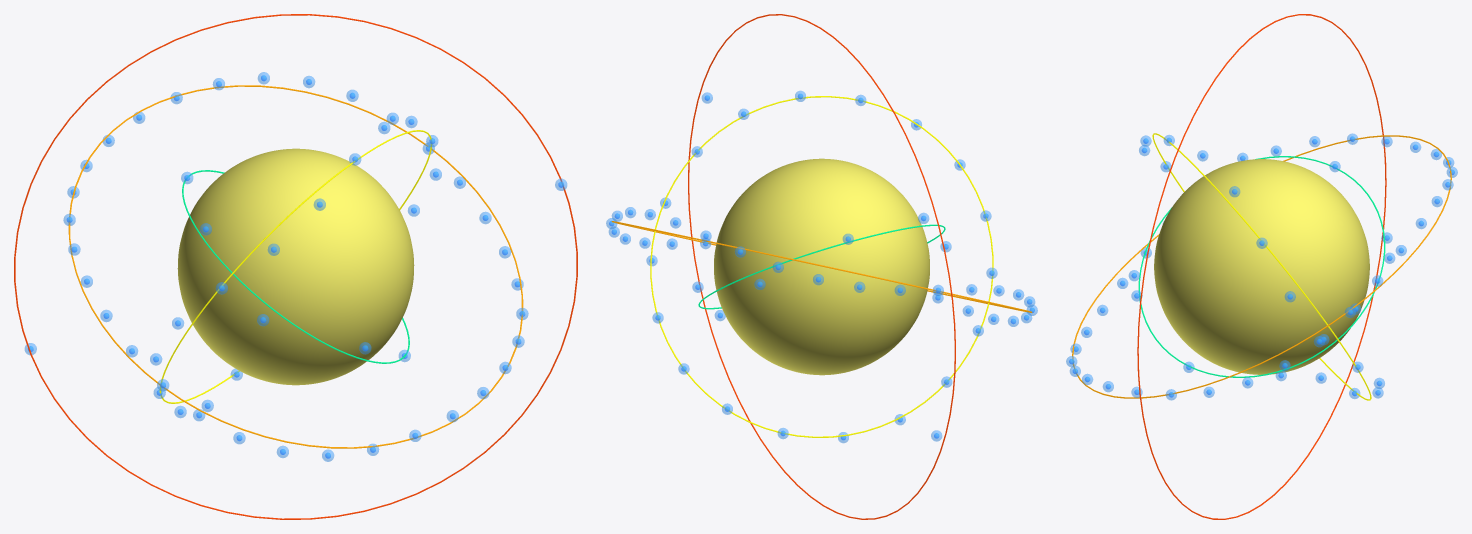
The picture shows the model from 3 angles, left to right: view 1: azimuth 30°, elevation 25°; view 2: azimuth 150°, elevation 25°; view 3: azimuth 270°, elevation 25°; orthographic projection. The views are drawn at different scales.
Parts seen in each view (by area): view 1: Sm, object 126, object 61, object 24, object 7; view 2: Sm, object 126, object 24, object 61, object 7; view 3: Sm, object 126, object 61, object 7, object 24.
Part boxes in pixels (x1,y1,x2,y2): Sm: (177,148,414,385); object 126: (14,14,577,519); object 61: (68,85,523,448); object 24: (159,130,431,403); object 7: (182,170,409,363); Sm: (714,158,929,375); object 126: (688,14,955,519); object 24: (650,96,993,437); object 61: (611,221,1032,312); object 7: (698,224,945,309); Sm: (1154,159,1369,374); object 126: (1137,14,1386,519); object 61: (1072,135,1451,398); object 7: (1138,156,1385,377); object 24: (1152,133,1371,400).
Bounding box in the file's own units: 6.32 × 7.21 × 5.49.
